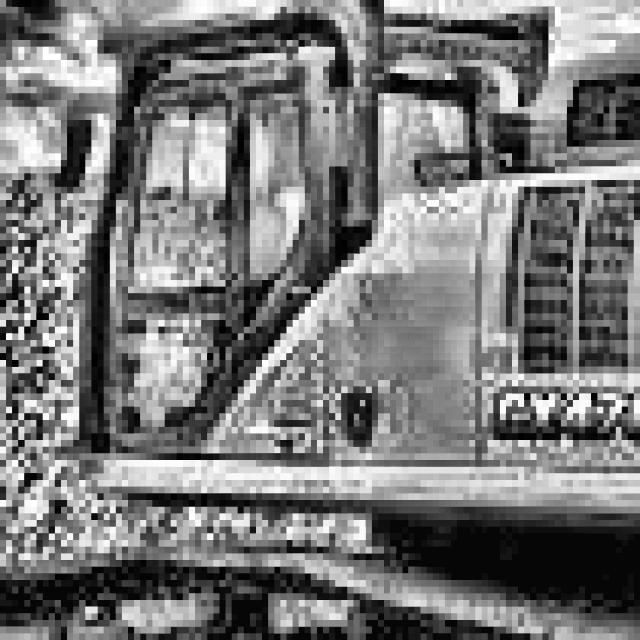excavator: (0, 13, 640, 640)
